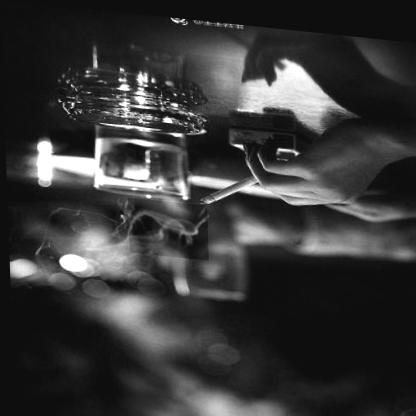smoke: (126, 195, 207, 256)
